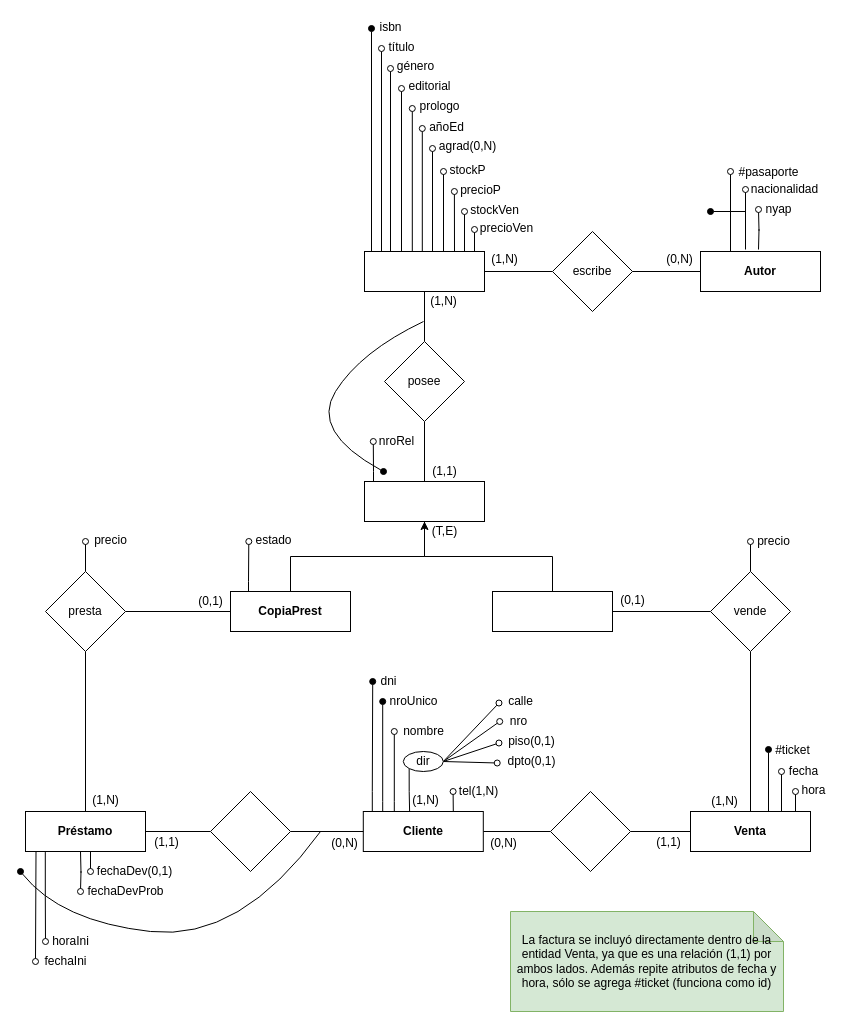
Image size: 851x1029. Some labels were removed from this diagram. The shapes that lost their labels are listed below. From the top down, each one's centre as x and y in pixels, then its label:
At pixel 424 271: "Libro".
At pixel 424 501: "Copia".
At pixel 552 611: "CopiaVen".
At pixel 250 831: "adquiere".
At pixel 590 831: "realiza".
